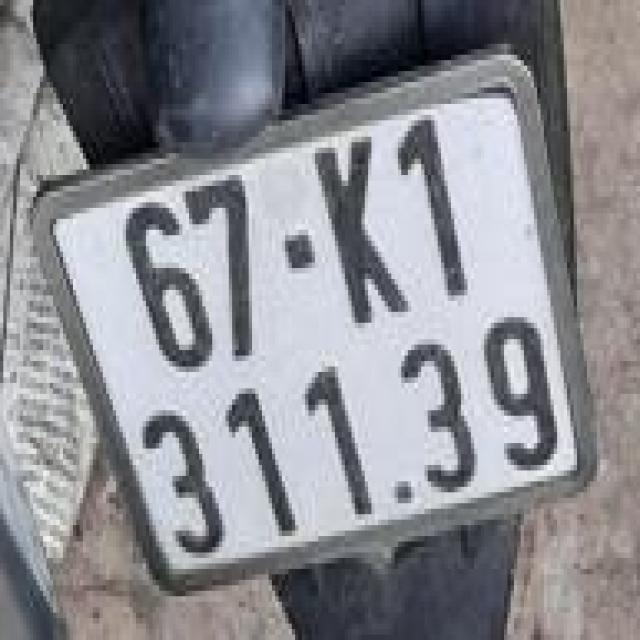1: (386, 100, 481, 310), (294, 348, 383, 527), (217, 370, 305, 542)
3: (392, 319, 486, 503), (134, 392, 233, 565)
6: (114, 184, 222, 383)
7: (177, 166, 269, 370)
9: (475, 297, 569, 480)
K: (301, 119, 419, 339)
